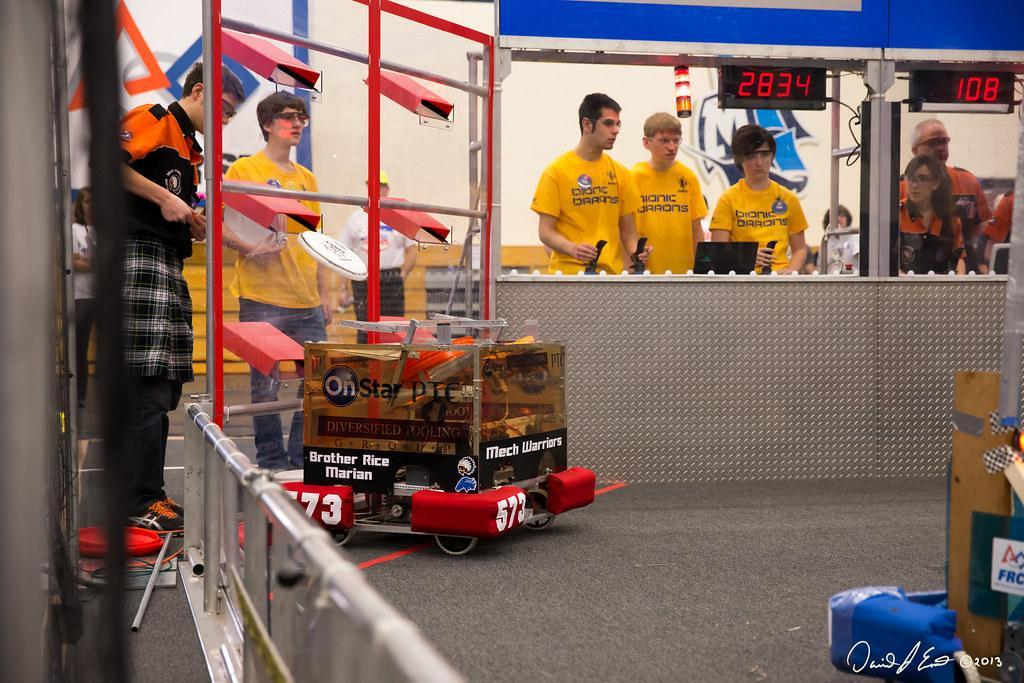robot: (259, 301, 599, 559), (827, 313, 1024, 683)
